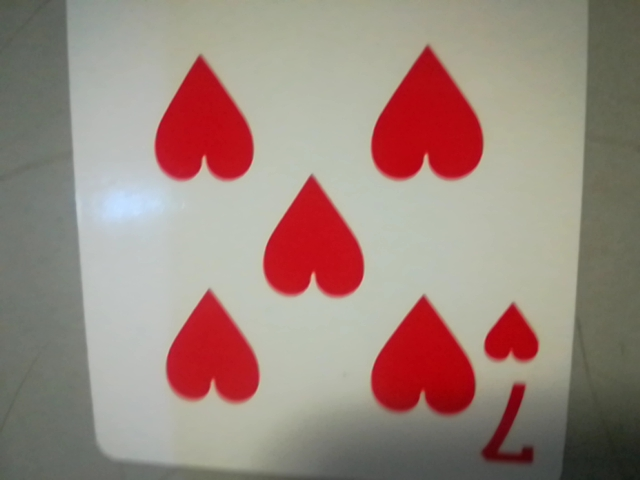hx 7: (468, 296, 561, 476)
